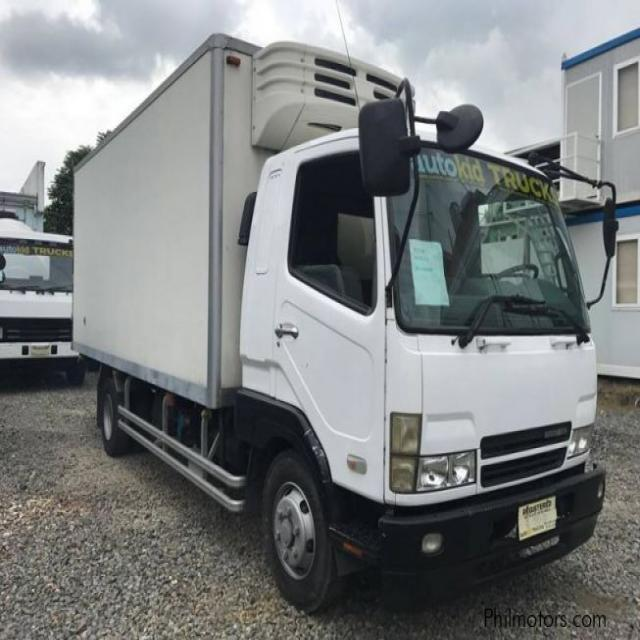truck: (72, 31, 618, 605)
